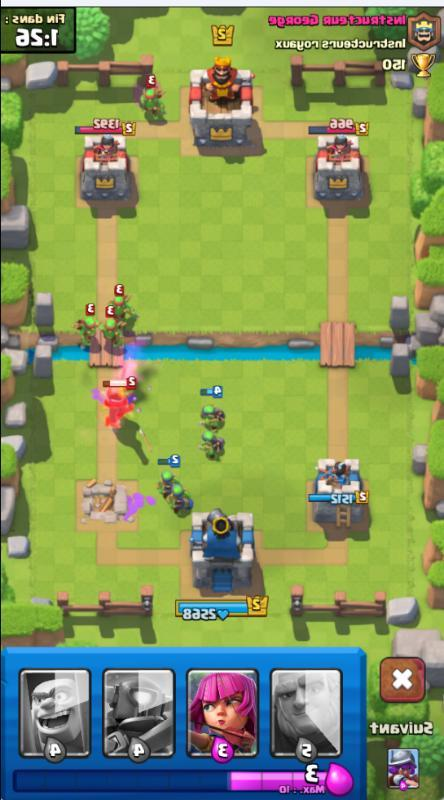enemy_knight: (93, 376, 144, 428)
enemy_spear_goblins: (136, 81, 169, 119), (106, 284, 138, 316), (72, 309, 101, 342), (99, 312, 127, 345)
player_spear_goblins: (195, 386, 230, 425), (154, 456, 183, 494), (196, 431, 227, 459), (168, 484, 195, 514)
